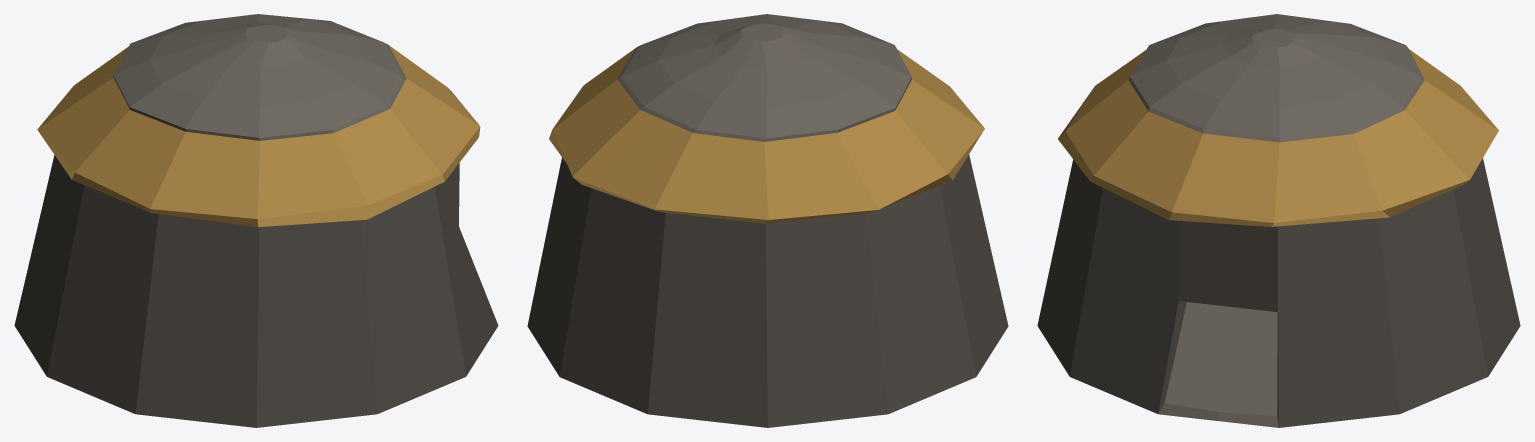
The model's file is forest_people_house_01.fbx.
3 renders of one model, left to right at view 1: azimuth 30°, elevation 25°; view 2: azimuth 150°, elevation 25°; view 3: azimuth 270°, elevation 25°, orthographic.
Visible parts, largest first — view 1: Cylinder; view 2: Cylinder; view 3: Cylinder.
Boxes of the visible parts, x1,y1,x2,y2 form: Cylinder: (14,14,498,427); Cylinder: (527,14,1008,427); Cylinder: (1037,14,1520,427).
Size of the model in its own units: 382 by 254 by 382.
